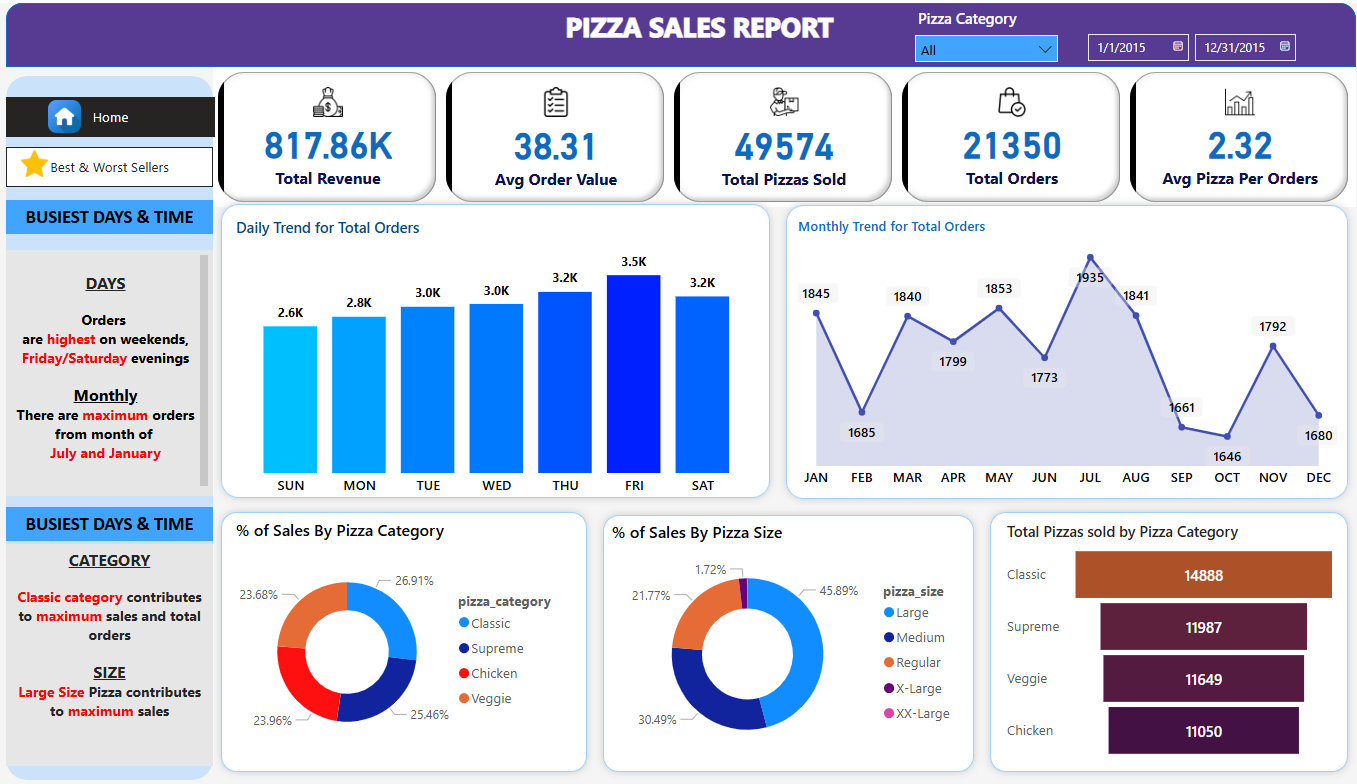

What the dashboard file says about the page in this screenshot:
{"tool":"powerbi","page":{"name":"Home","canvas":[1500,800],"ordinal":0},"visuals":[{"type":"pageNavigator","box":[29,94,400,50],"z":0},{"type":"cardVisual","fields":{"Data":["PizzaMeasures.Total Revenue","PizzaMeasures.Avg Order Value","PizzaMeasures.Total Pizzas Sold","PizzaMeasures.Total Orders","PizzaMeasures.Avg Pizza Per Orders"]},"box":[281.1,64.4,1143.3,140],"z":1000},{"type":"shape","box":[74.4,0,1350,64.4],"z":2000},{"type":"textbox","box":[616.7,0,301.1,53.3],"z":3000},{"type":"shape","box":[281.1,193.3,564.4,310],"z":4000},{"type":"columnChart","title":"Daily Trend for Total Orders","fields":{"Category":["pizza_sales.Order Day"],"Y":["PizzaMeasures.Total Orders"]},"box":[298.9,214.4,532.2,286.7],"z":5000},{"type":"shape","box":[845.6,194.4,578.9,310],"z":6000},{"type":"areaChart","title":"Monthly Trend for Total Orders","fields":{"Category":["pizza_sales.Month Order"],"Y":["PizzaMeasures.Total Orders"]},"box":[861.1,214.4,548.9,278.9],"z":7000},{"type":"shape","box":[281.1,501.1,382.2,275.6],"z":8000},{"type":"shape","box":[663.3,504.4,386.7,272.2],"z":9000},{"type":"shape","box":[1050,501.1,374.4,275.6],"z":10000},{"type":"donutChart","title":"% of Sales By Pizza Category","fields":{"Category":["pizza_sales.pizza_category"],"Y":["PizzaMeasures.Total Revenue"]},"box":[298.9,515.6,341.1,245.6],"z":11000},{"type":"donutChart","title":"% of Sales By Pizza Size","fields":{"Category":["pizza_sales.pizza_size"],"Y":["PizzaMeasures.Total Revenue"]},"box":[675,518,361,245],"z":12000},{"type":"funnel","title":"Total Pizzas sold by Pizza Category ","fields":{"Category":["pizza_sales.pizza_category"],"Y":["PizzaMeasures.Total Pizzas Sold"]},"box":[1070,517.8,340,243.3],"z":13000},{"type":"shape","box":[74,73,207,704],"z":14000},{"type":"textbox","box":[74,197,207,34],"z":15000},{"type":"textbox","box":[74,247,207,246],"z":16000},{"type":"textbox","box":[74,504,207,34],"z":17000},{"type":"textbox","box":[74,541,207,222],"z":18000},{"type":"slicer","fields":{"Values":["pizza_sales.pizza_category"]},"box":[973,0,163,64],"z":19000},{"type":"slicer","fields":{"Values":["pizza_sales.order_date"]},"box":[1143,21,259,73],"z":20000},{"type":"pageNavigator","box":[74,94,209,40],"z":21000},{"type":"pageNavigator","box":[74,144,207,40],"z":22000},{"type":"image","box":[111,91.9,43.3,43.8],"z":23000},{"type":"image","box":[83.9,140.4,37.4,40.4],"z":24000}]}

Visuals, with their boxes on the page's 1500x800 design canvas (x1, y1, x2, y2). These are canvas units, not pixel positions in the 1357x784 screenshot, which may show the page scaled, cropped or inside an application window:
pageNavigator: Rect(29, 94, 429, 144)
cardVisual - PizzaMeasures.Total Revenue x PizzaMeasures.Avg Order Value: Rect(281, 64, 1424, 204)
shape: Rect(74, 0, 1424, 64)
textbox: Rect(617, 0, 918, 53)
shape: Rect(281, 193, 846, 503)
"Daily Trend for Total Orders" columnChart: Rect(299, 214, 831, 501)
shape: Rect(846, 194, 1424, 504)
"Monthly Trend for Total Orders" areaChart: Rect(861, 214, 1410, 493)
shape: Rect(281, 501, 663, 777)
shape: Rect(663, 504, 1050, 777)
shape: Rect(1050, 501, 1424, 777)
"% of Sales By Pizza Category" donutChart: Rect(299, 516, 640, 761)
"% of Sales By Pizza Size" donutChart: Rect(675, 518, 1036, 763)
"Total Pizzas sold by Pizza Category " funnel: Rect(1070, 518, 1410, 761)
shape: Rect(74, 73, 281, 777)
textbox: Rect(74, 197, 281, 231)
textbox: Rect(74, 247, 281, 493)
textbox: Rect(74, 504, 281, 538)
textbox: Rect(74, 541, 281, 763)
slicer - pizza_sales.pizza_category: Rect(973, 0, 1136, 64)
slicer - pizza_sales.order_date: Rect(1143, 21, 1402, 94)
pageNavigator: Rect(74, 94, 283, 134)
pageNavigator: Rect(74, 144, 281, 184)
image: Rect(111, 92, 154, 136)
image: Rect(84, 140, 121, 181)
